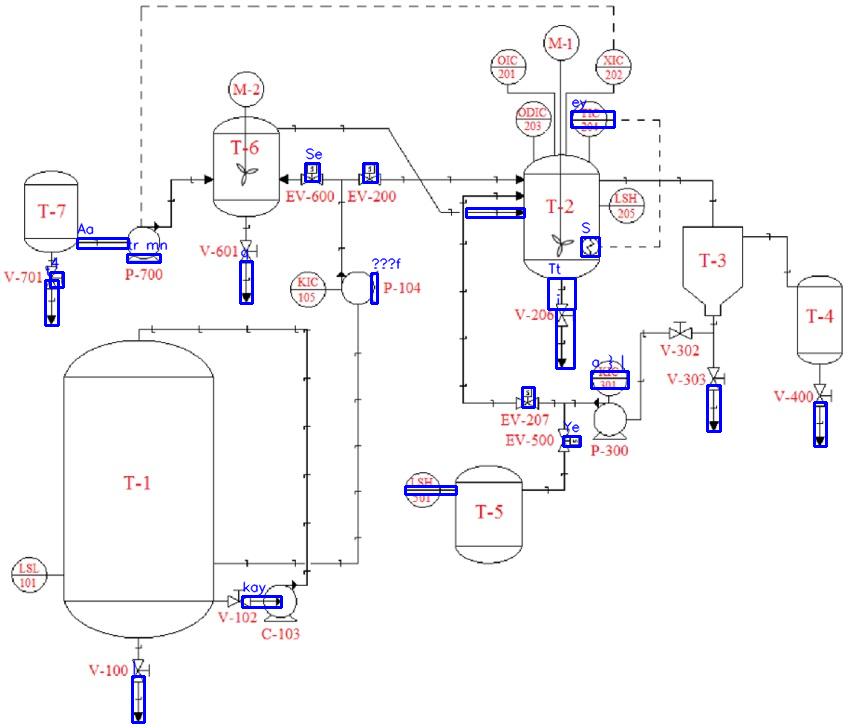Instrumento: (607, 186, 648, 227), (569, 99, 609, 139), (8, 556, 48, 595), (403, 471, 443, 509)
Motor: (226, 69, 266, 109), (540, 24, 580, 63)
Outro: (122, 224, 165, 263), (339, 268, 381, 307), (261, 582, 299, 624), (514, 98, 553, 138), (489, 47, 528, 86), (592, 401, 630, 441), (593, 47, 631, 86)
Tanque: (53, 337, 223, 639), (518, 152, 605, 274), (451, 464, 526, 565), (211, 112, 281, 220), (679, 224, 747, 318), (792, 271, 847, 368), (20, 168, 80, 253)
Válvula: (512, 385, 543, 412), (810, 380, 836, 412), (353, 160, 385, 186), (554, 426, 583, 454), (298, 160, 327, 188), (553, 299, 578, 331), (704, 366, 731, 392), (129, 656, 153, 685), (225, 587, 256, 609), (238, 236, 260, 266), (667, 320, 695, 341)
